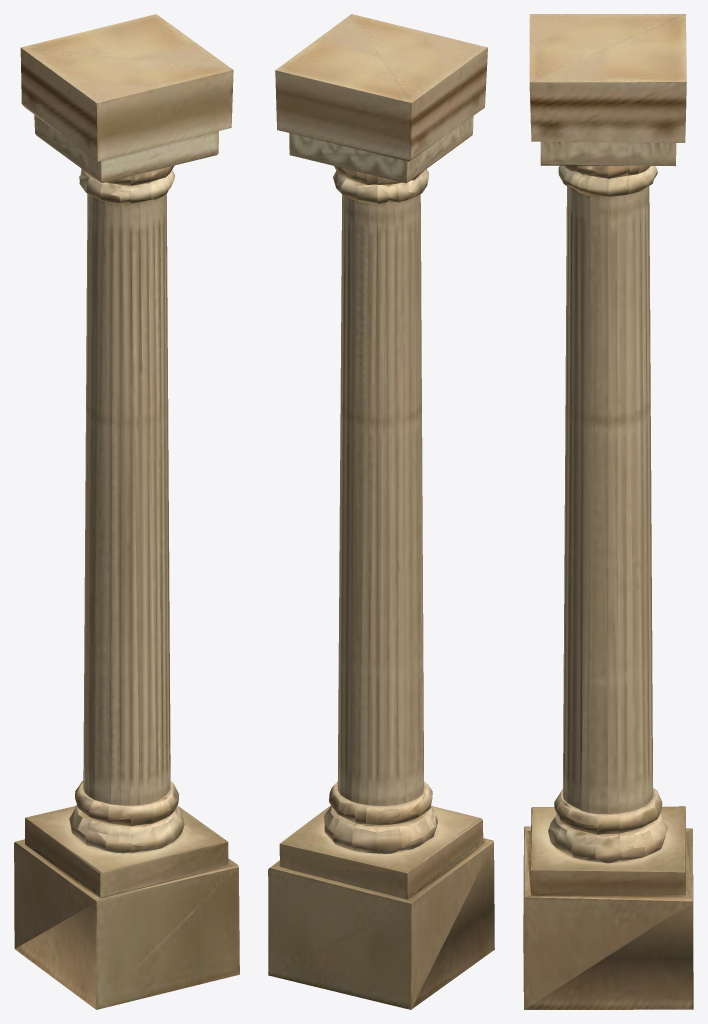
File: column.lod1.glb
3 renders of one model, left to right at view 1: azimuth 30°, elevation 25°; view 2: azimuth 150°, elevation 25°; view 3: azimuth 270°, elevation 25°, orthographic. The views are drawn at different scales.
Bounding box in the file's own units: 0.5 × 3 × 0.5.
Materials: 1 (1 with a texture image).
